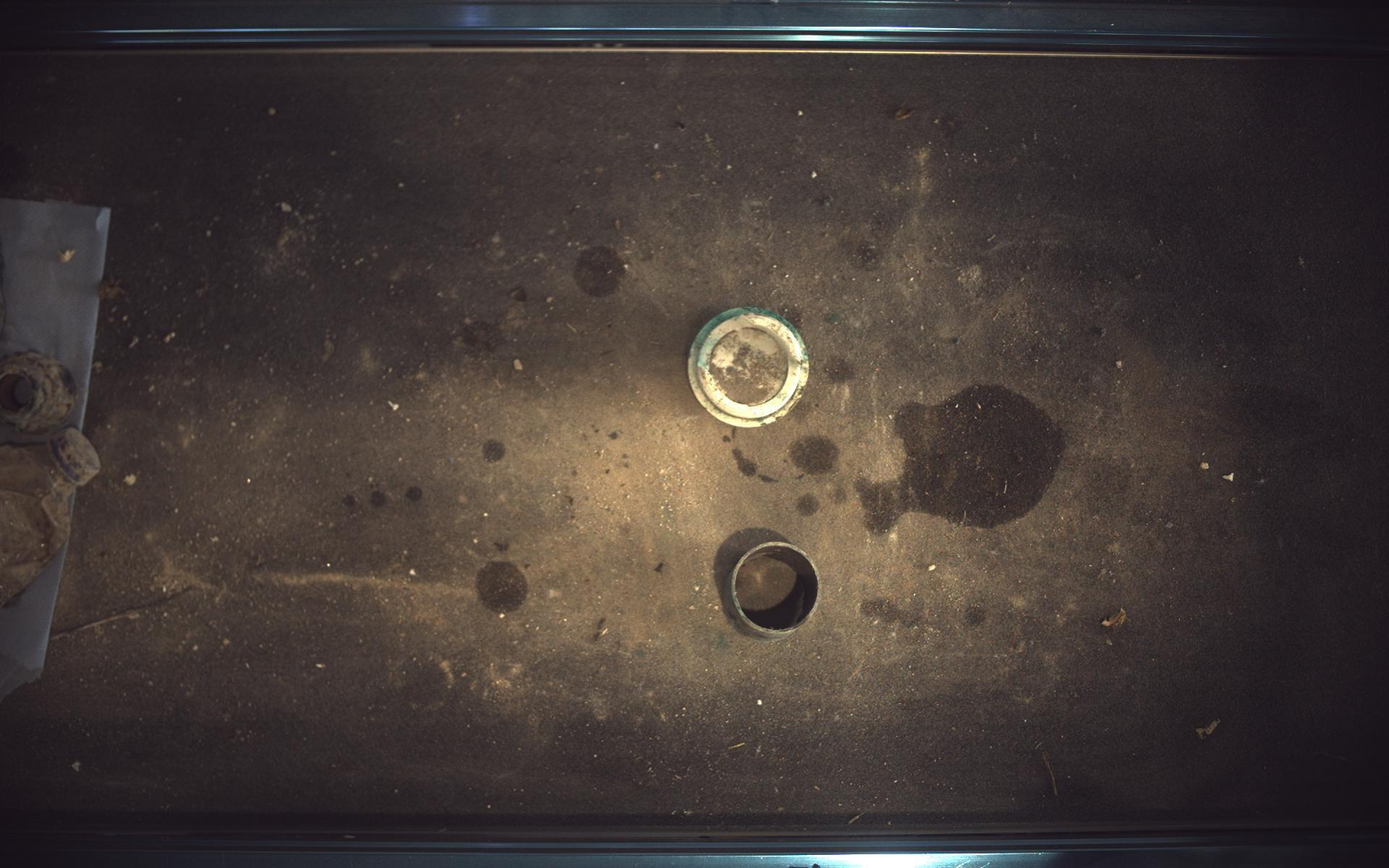plastic: (689, 307, 810, 427)
